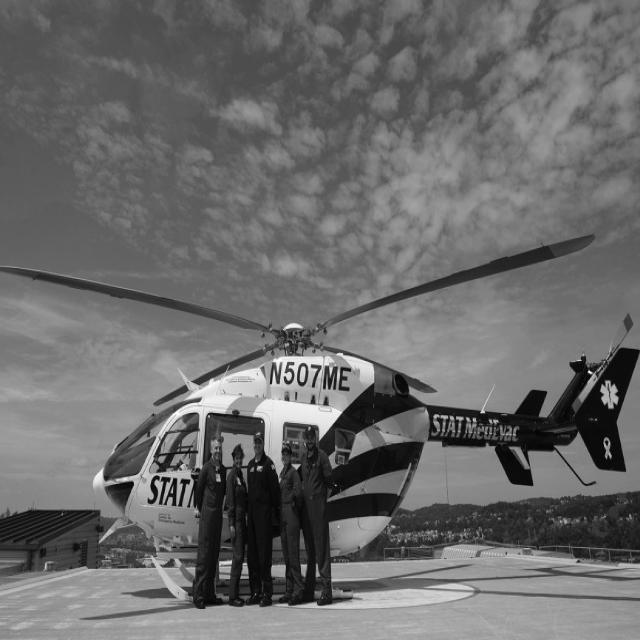helicopter: (1, 235, 636, 601)
